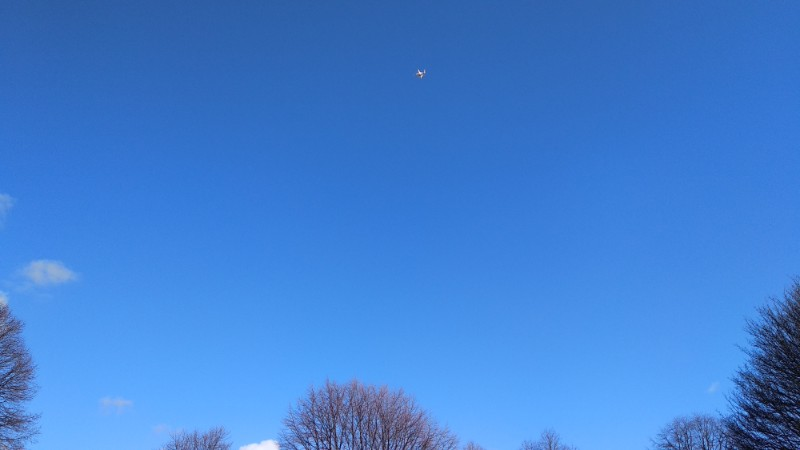drone: (415, 67, 427, 80)
